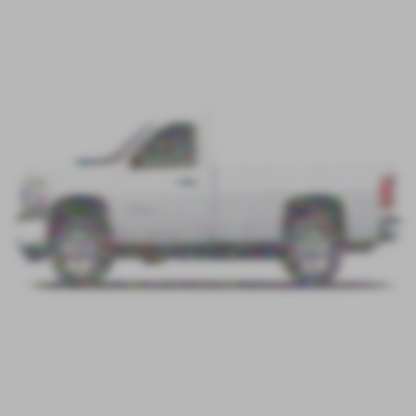Vehicle: (19, 114, 400, 283)
